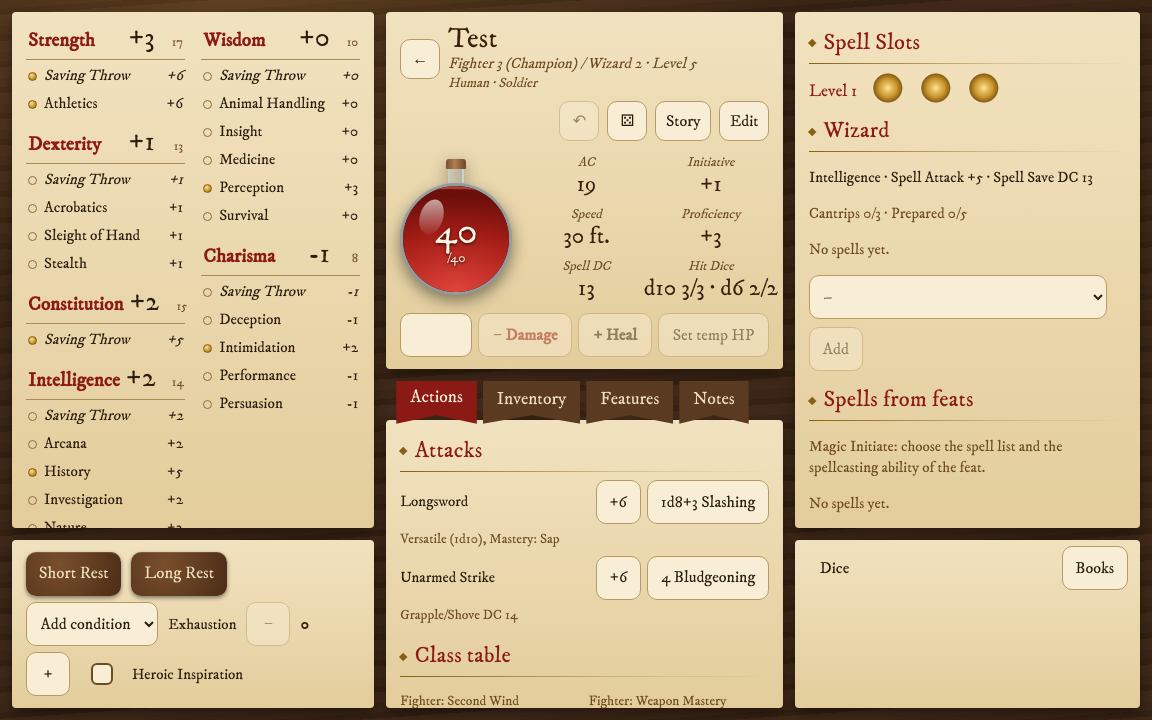
Scenario: sheet › undoes older changes one by one from the top bar
Expected: the element with test id "hp" is shown, x1=435 y1=208 x2=478 y2=267
Type "5" into the number field named "Amount" at (436, 335), box x1=400 y1=313 x2=472 y2=357
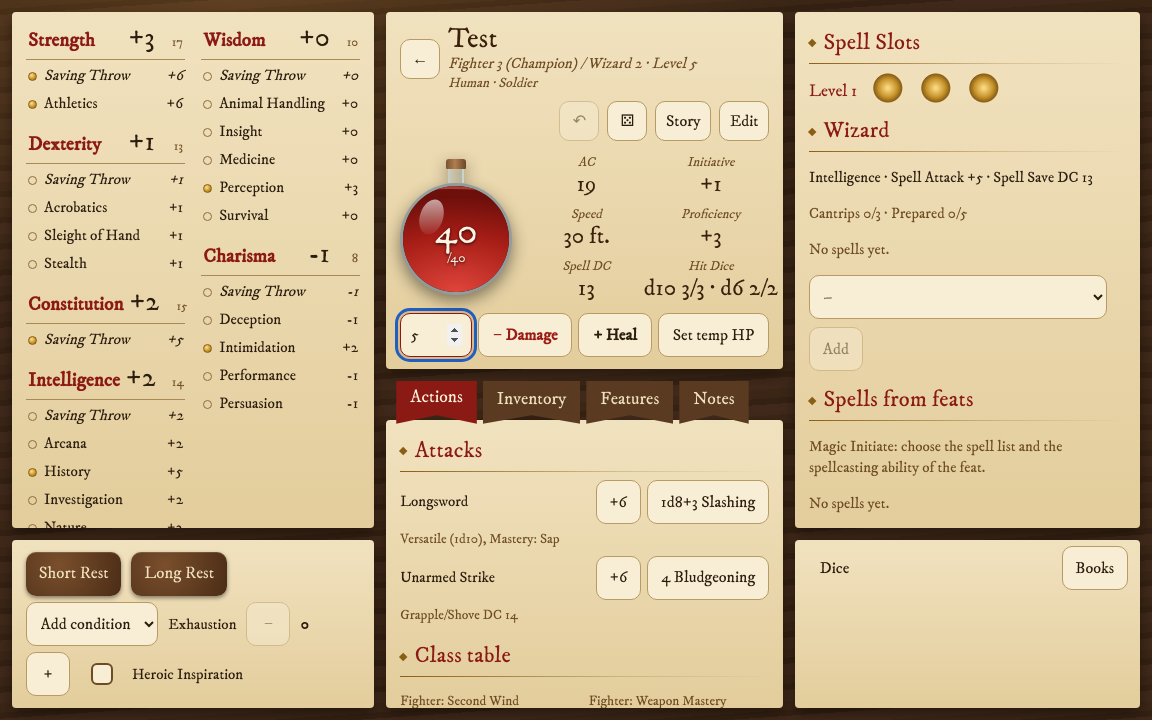
Click the button "− Damage" at (525, 335), box x1=478 y1=313 x2=572 y2=357
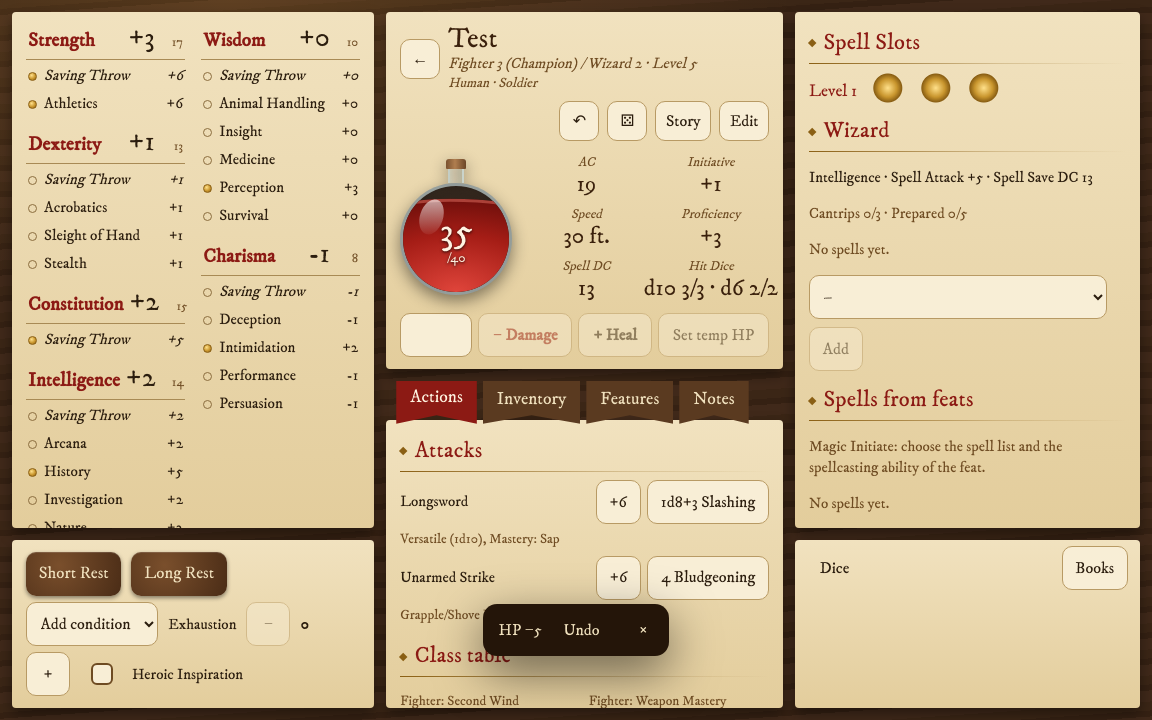
Type "3" into the number field named "Amount" at (436, 335), box x1=400 y1=313 x2=472 y2=357
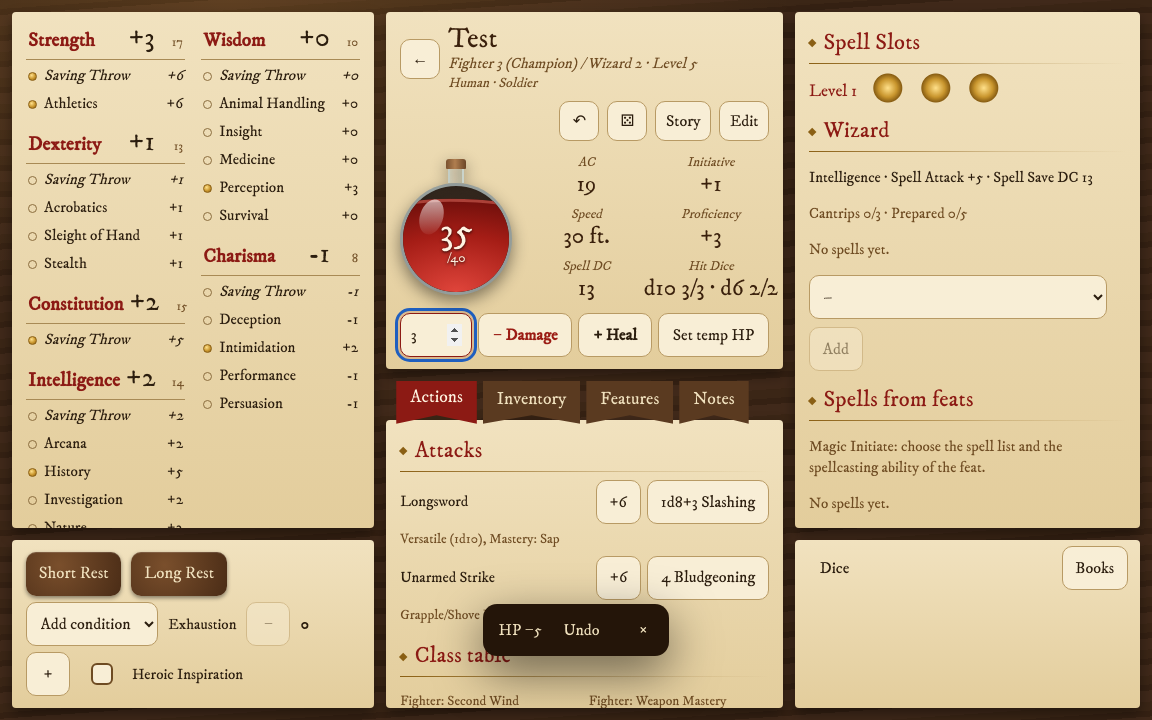
Click the button "− Damage" at (525, 335), box x1=478 y1=313 x2=572 y2=357
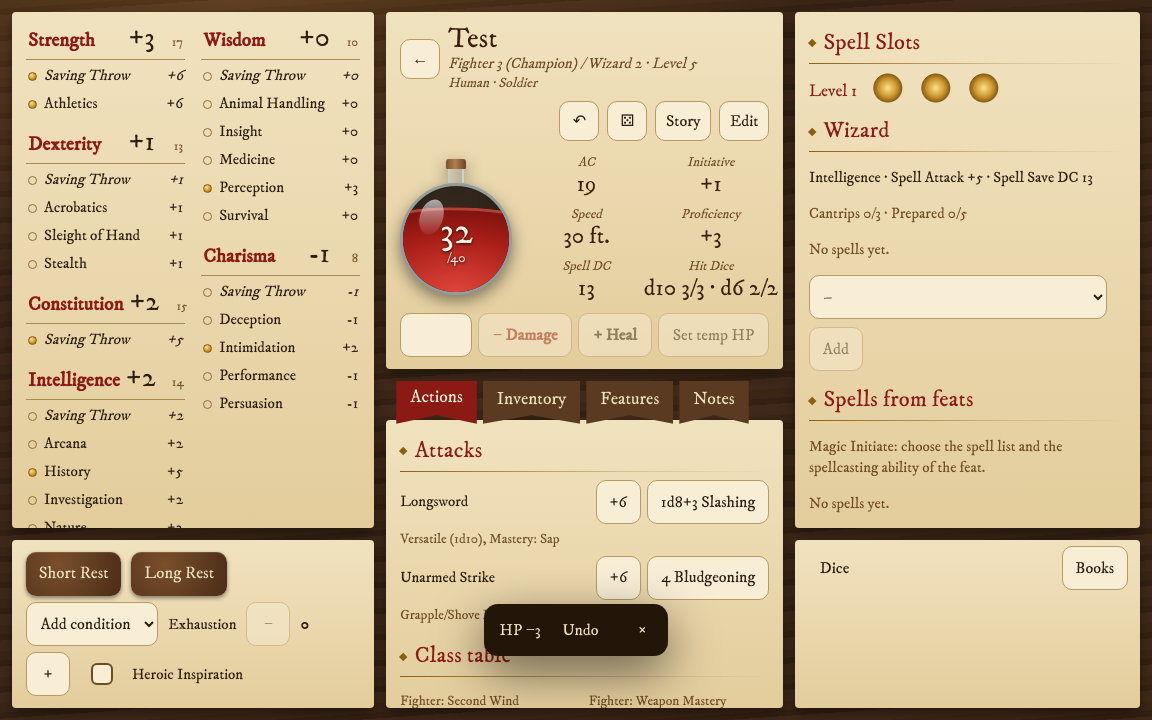
Result: the element with test id "hp" reads "32 /40" at x1=440 y1=208 x2=473 y2=267
Click the button named "Undo last change" at (579, 121), box x1=559 y1=101 x2=599 y2=141
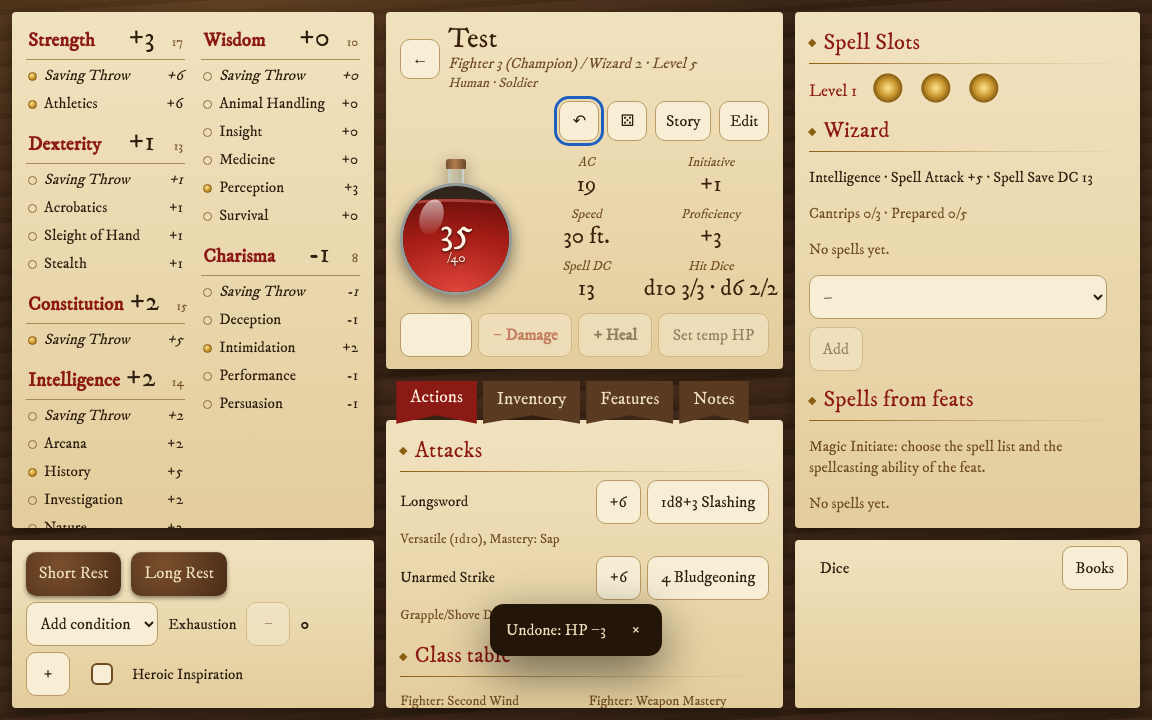
Click the button named "Undo last change" at (579, 121), box x1=559 y1=101 x2=599 y2=141
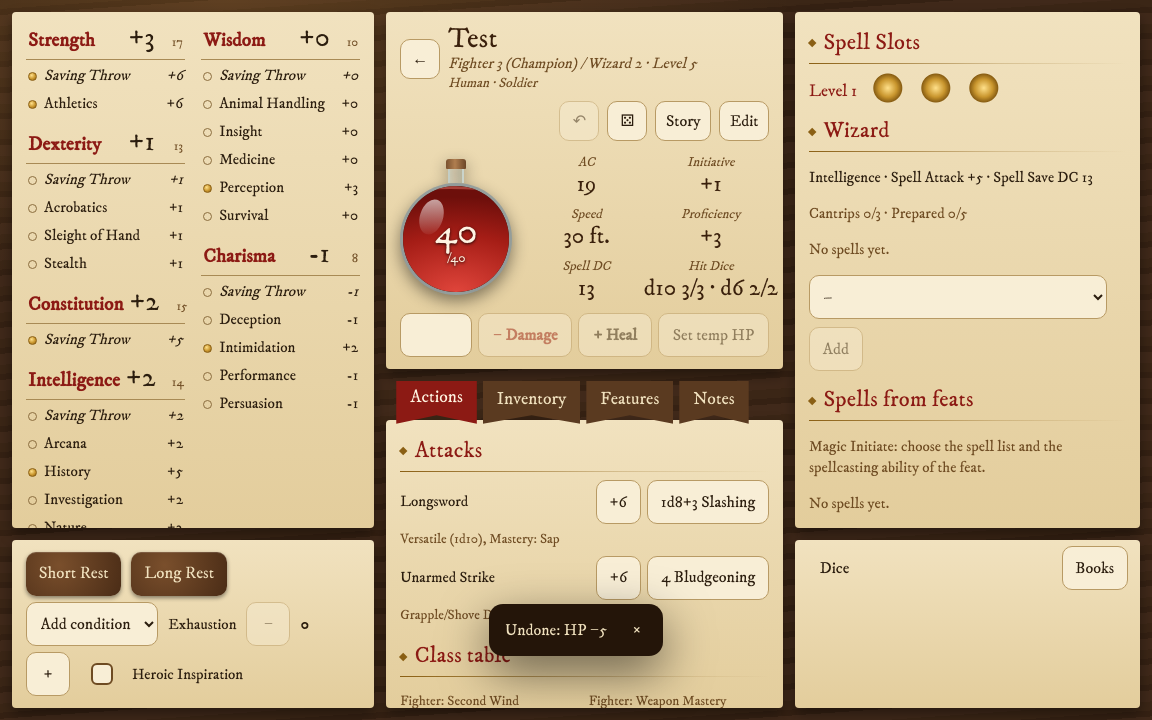
Result: the element with test id "hp" reads "40 /40" at x1=435 y1=208 x2=478 y2=267
Result: the button named "Undo last change" is disabled at x1=559 y1=101 x2=599 y2=141
